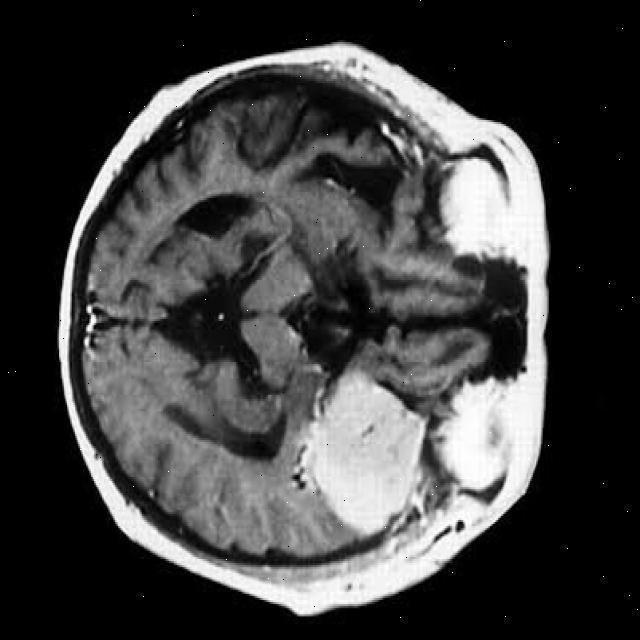Meningioma: (305, 372, 424, 534)
